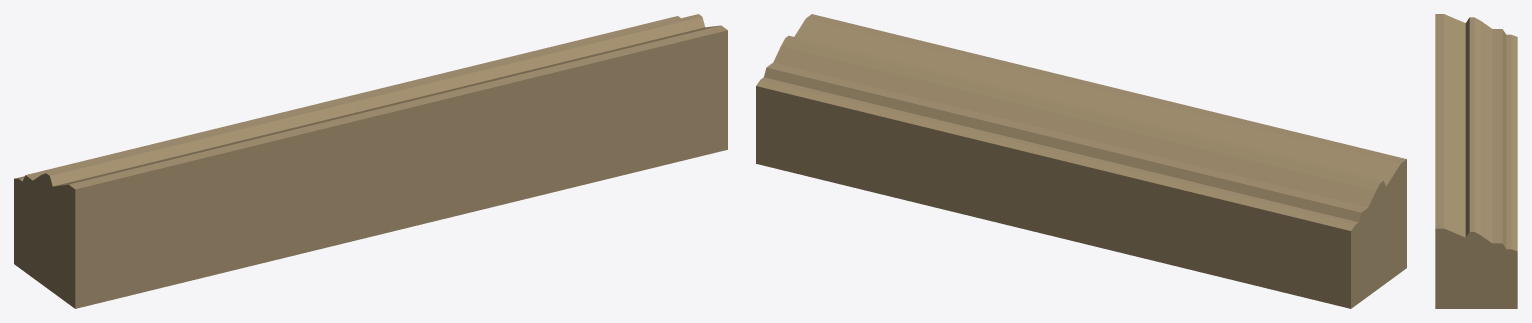
File: T06_Cornice_Straight.obj
3 renders of one model, left to right at view 1: azimuth 30°, elevation 25°; view 2: azimuth 150°, elevation 25°; view 3: azimuth 270°, elevation 25°, orthographic. The views are drawn at different scales.
Parts seen in each view (by area): view 1: T06_Cornice_Straight; view 2: T06_Cornice_Straight; view 3: T06_Cornice_Straight.
Part boxes in pixels (x1=…): T06_Cornice_Straight: x1=14, y1=14, x2=727, y2=308; T06_Cornice_Straight: x1=756, y1=14, x2=1406, y2=308; T06_Cornice_Straight: x1=1435, y1=14, x2=1517, y2=308.
Size of the model in its own units: 4 by 0.7 by 0.65.
